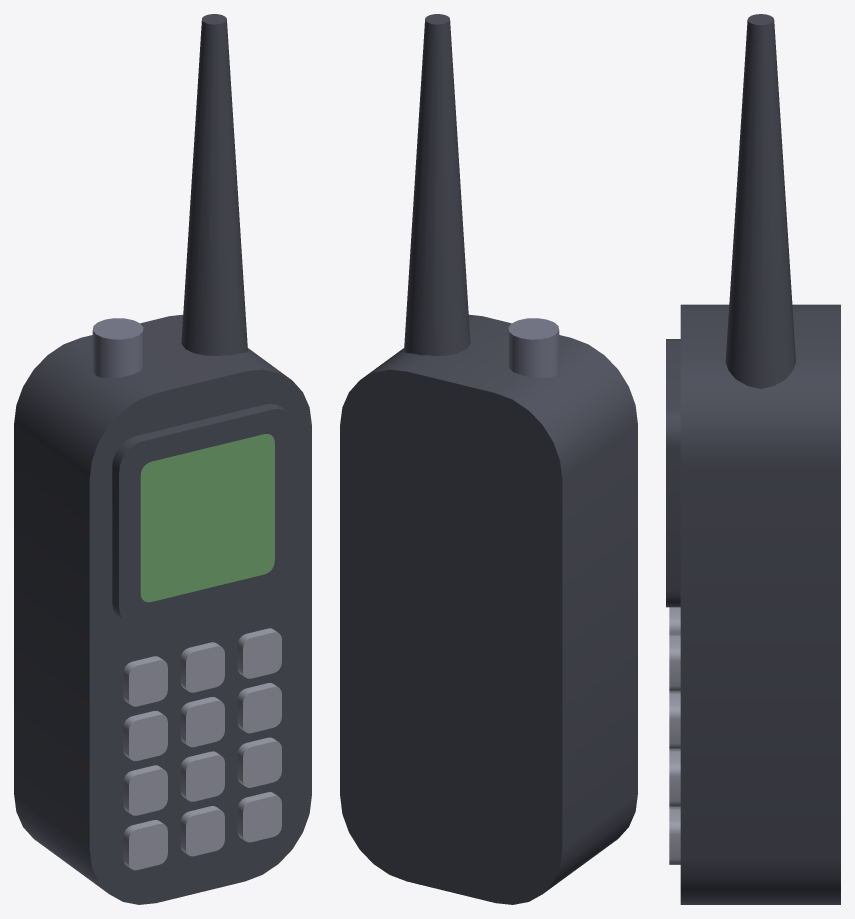
Rendered from Radio Set.fbx.
The picture shows the model from 3 angles, left to right: view 1: azimuth 30°, elevation 25°; view 2: azimuth 150°, elevation 25°; view 3: azimuth 270°, elevation 25°; orthographic projection. The views are drawn at different scales.
Visible parts, largest first — view 1: Cube.003; view 2: Cube.003; view 3: Cube.003.
Boxes of the visible parts, bbox=[...] form: Cube.003: bbox=[14, 14, 311, 904]; Cube.003: bbox=[340, 14, 637, 904]; Cube.003: bbox=[666, 14, 840, 904].
Size of the model in its own units: 0.307 by 1.1 by 0.1976.
